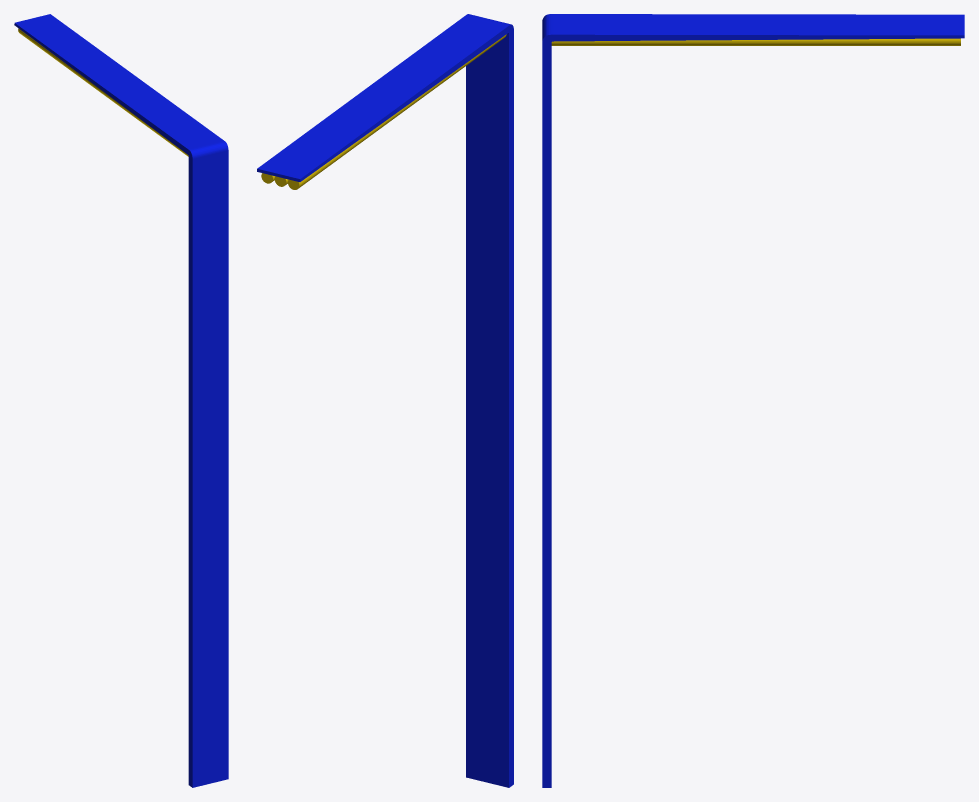
File: talllamp.fbx
3 views of the same model, side by side, from view 1: azimuth 30°, elevation 25°; view 2: azimuth 150°, elevation 25°; view 3: azimuth 270°, elevation 25° (orthographic). The views are drawn at different scales.
Visible parts, largest first — view 1: Cylinder.002; view 2: Cylinder.002; view 3: Cylinder.002.
Boxes of the visible parts, box(x1,y1,x2,y2) form: Cylinder.002: box(14, 14, 228, 787); Cylinder.002: box(257, 14, 513, 787); Cylinder.002: box(542, 14, 964, 787).
Size of the model in its own units: 65.87 by 1114 by 566.
